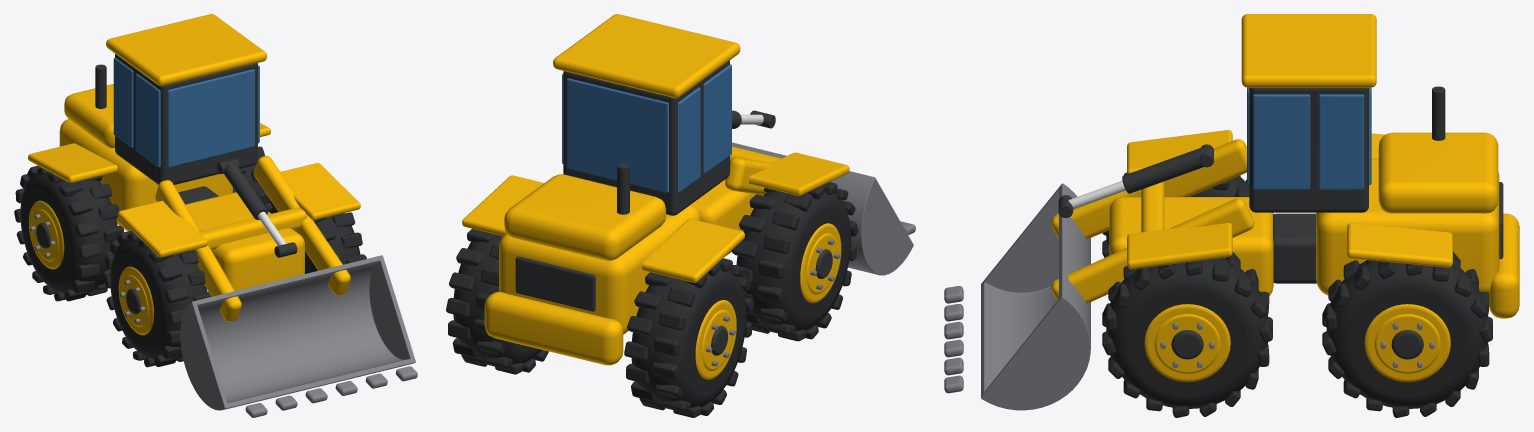
Rendered from WheelLoader.glb.
3 views of the same model, side by side, from view 1: azimuth 30°, elevation 25°; view 2: azimuth 150°, elevation 25°; view 3: azimuth 270°, elevation 25° (orthographic). The views are drawn at different scales.
Parts seen in each view (by area): view 1: WheelLoader_WheelLoader_Root_Yellow, WheelLoader_Arm_SteelGrey, WheelLoader_WheelLoader_Root_Glass, WheelLoader_Wheel_WheelR1_Rubber, WheelLoader_Wheel_WheelR0_Rubber, WheelLoader_Arm_Yellow, WheelLoader_WheelLoader_Root_DarkGrey, WheelLoader_Wheel_WheelL0_Rubber, WheelLoader_Wheel_WheelR1_Yellow, WheelLoader_Wheel_WheelR0_Yellow, WheelLoader_Arm_DarkGrey, WheelLoader_Wheel_WheelL1_Rubber; view 2: WheelLoader_WheelLoader_Root_Yellow, WheelLoader_WheelLoader_Root_Glass, WheelLoader_Wheel_WheelR1_Rubber, WheelLoader_Wheel_WheelR0_Rubber, WheelLoader_WheelLoader_Root_DarkGrey, WheelLoader_Wheel_WheelL1_Rubber, WheelLoader_Arm_SteelGrey, WheelLoader_Wheel_WheelR0_Yellow, WheelLoader_Wheel_WheelR1_Yellow, WheelLoader_Arm_Yellow; view 3: WheelLoader_WheelLoader_Root_Yellow, WheelLoader_Arm_SteelGrey, WheelLoader_Wheel_WheelL0_Rubber, WheelLoader_Wheel_WheelL1_Rubber, WheelLoader_WheelLoader_Root_Glass, WheelLoader_WheelLoader_Root_DarkGrey, WheelLoader_Arm_Yellow, WheelLoader_Wheel_WheelL0_Yellow, WheelLoader_Wheel_WheelL1_Yellow, WheelLoader_Arm_DarkGrey, WheelLoader_Wheel_WheelR0_Rubber, Load_WheelL1_Hub (+2 smaller).
Part boxes in pixels (x1,y1,x2,y2): WheelLoader_WheelLoader_Root_Yellow: [28, 14, 360, 290]; WheelLoader_Arm_SteelGrey: [180, 255, 417, 417]; WheelLoader_WheelLoader_Root_Glass: [113, 57, 259, 167]; WheelLoader_Wheel_WheelR1_Rubber: [14, 165, 123, 301]; WheelLoader_Wheel_WheelR0_Rubber: [104, 230, 211, 367]; WheelLoader_Arm_Yellow: [155, 156, 350, 321]; WheelLoader_WheelLoader_Root_DarkGrey: [95, 54, 257, 204]; WheelLoader_Wheel_WheelL0_Rubber: [264, 200, 366, 273]; WheelLoader_Wheel_WheelR1_Yellow: [28, 200, 64, 269]; WheelLoader_Wheel_WheelR0_Yellow: [118, 266, 153, 335]; WheelLoader_Arm_DarkGrey: [217, 158, 297, 257]; WheelLoader_Wheel_WheelL1_Rubber: [233, 146, 270, 204]; WheelLoader_WheelLoader_Root_Yellow: [462, 14, 849, 365]; WheelLoader_WheelLoader_Root_Glass: [562, 64, 731, 192]; WheelLoader_Wheel_WheelR1_Rubber: [624, 258, 753, 417]; WheelLoader_Wheel_WheelR0_Rubber: [731, 182, 858, 341]; WheelLoader_WheelLoader_Root_DarkGrey: [515, 60, 729, 311]; WheelLoader_Wheel_WheelL1_Rubber: [446, 228, 548, 374]; WheelLoader_Arm_SteelGrey: [732, 142, 915, 275]; WheelLoader_Wheel_WheelR0_Yellow: [800, 223, 841, 303]; WheelLoader_Wheel_WheelR1_Yellow: [695, 300, 736, 379]; WheelLoader_Arm_Yellow: [725, 146, 780, 195]; WheelLoader_WheelLoader_Root_Yellow: [1109, 14, 1519, 318]; WheelLoader_Arm_SteelGrey: [944, 183, 1090, 410]; WheelLoader_Wheel_WheelL0_Rubber: [1102, 252, 1272, 417]; WheelLoader_Wheel_WheelL1_Rubber: [1322, 252, 1492, 417]; WheelLoader_WheelLoader_Root_Glass: [1247, 87, 1371, 189]; WheelLoader_WheelLoader_Root_DarkGrey: [1249, 86, 1503, 283]; WheelLoader_Arm_Yellow: [1051, 139, 1254, 303]; WheelLoader_Wheel_WheelL0_Yellow: [1144, 304, 1230, 382]; WheelLoader_Wheel_WheelL1_Yellow: [1364, 304, 1450, 382]; WheelLoader_Arm_DarkGrey: [1058, 144, 1213, 217]; WheelLoader_Wheel_WheelR0_Rubber: [1102, 172, 1249, 257]; Load_WheelL1_Hub: [1391, 330, 1423, 359].
Size of the model in its own units: 1.55 by 1.8 by 2.98.
Materials: 5 (5 with a texture image).
